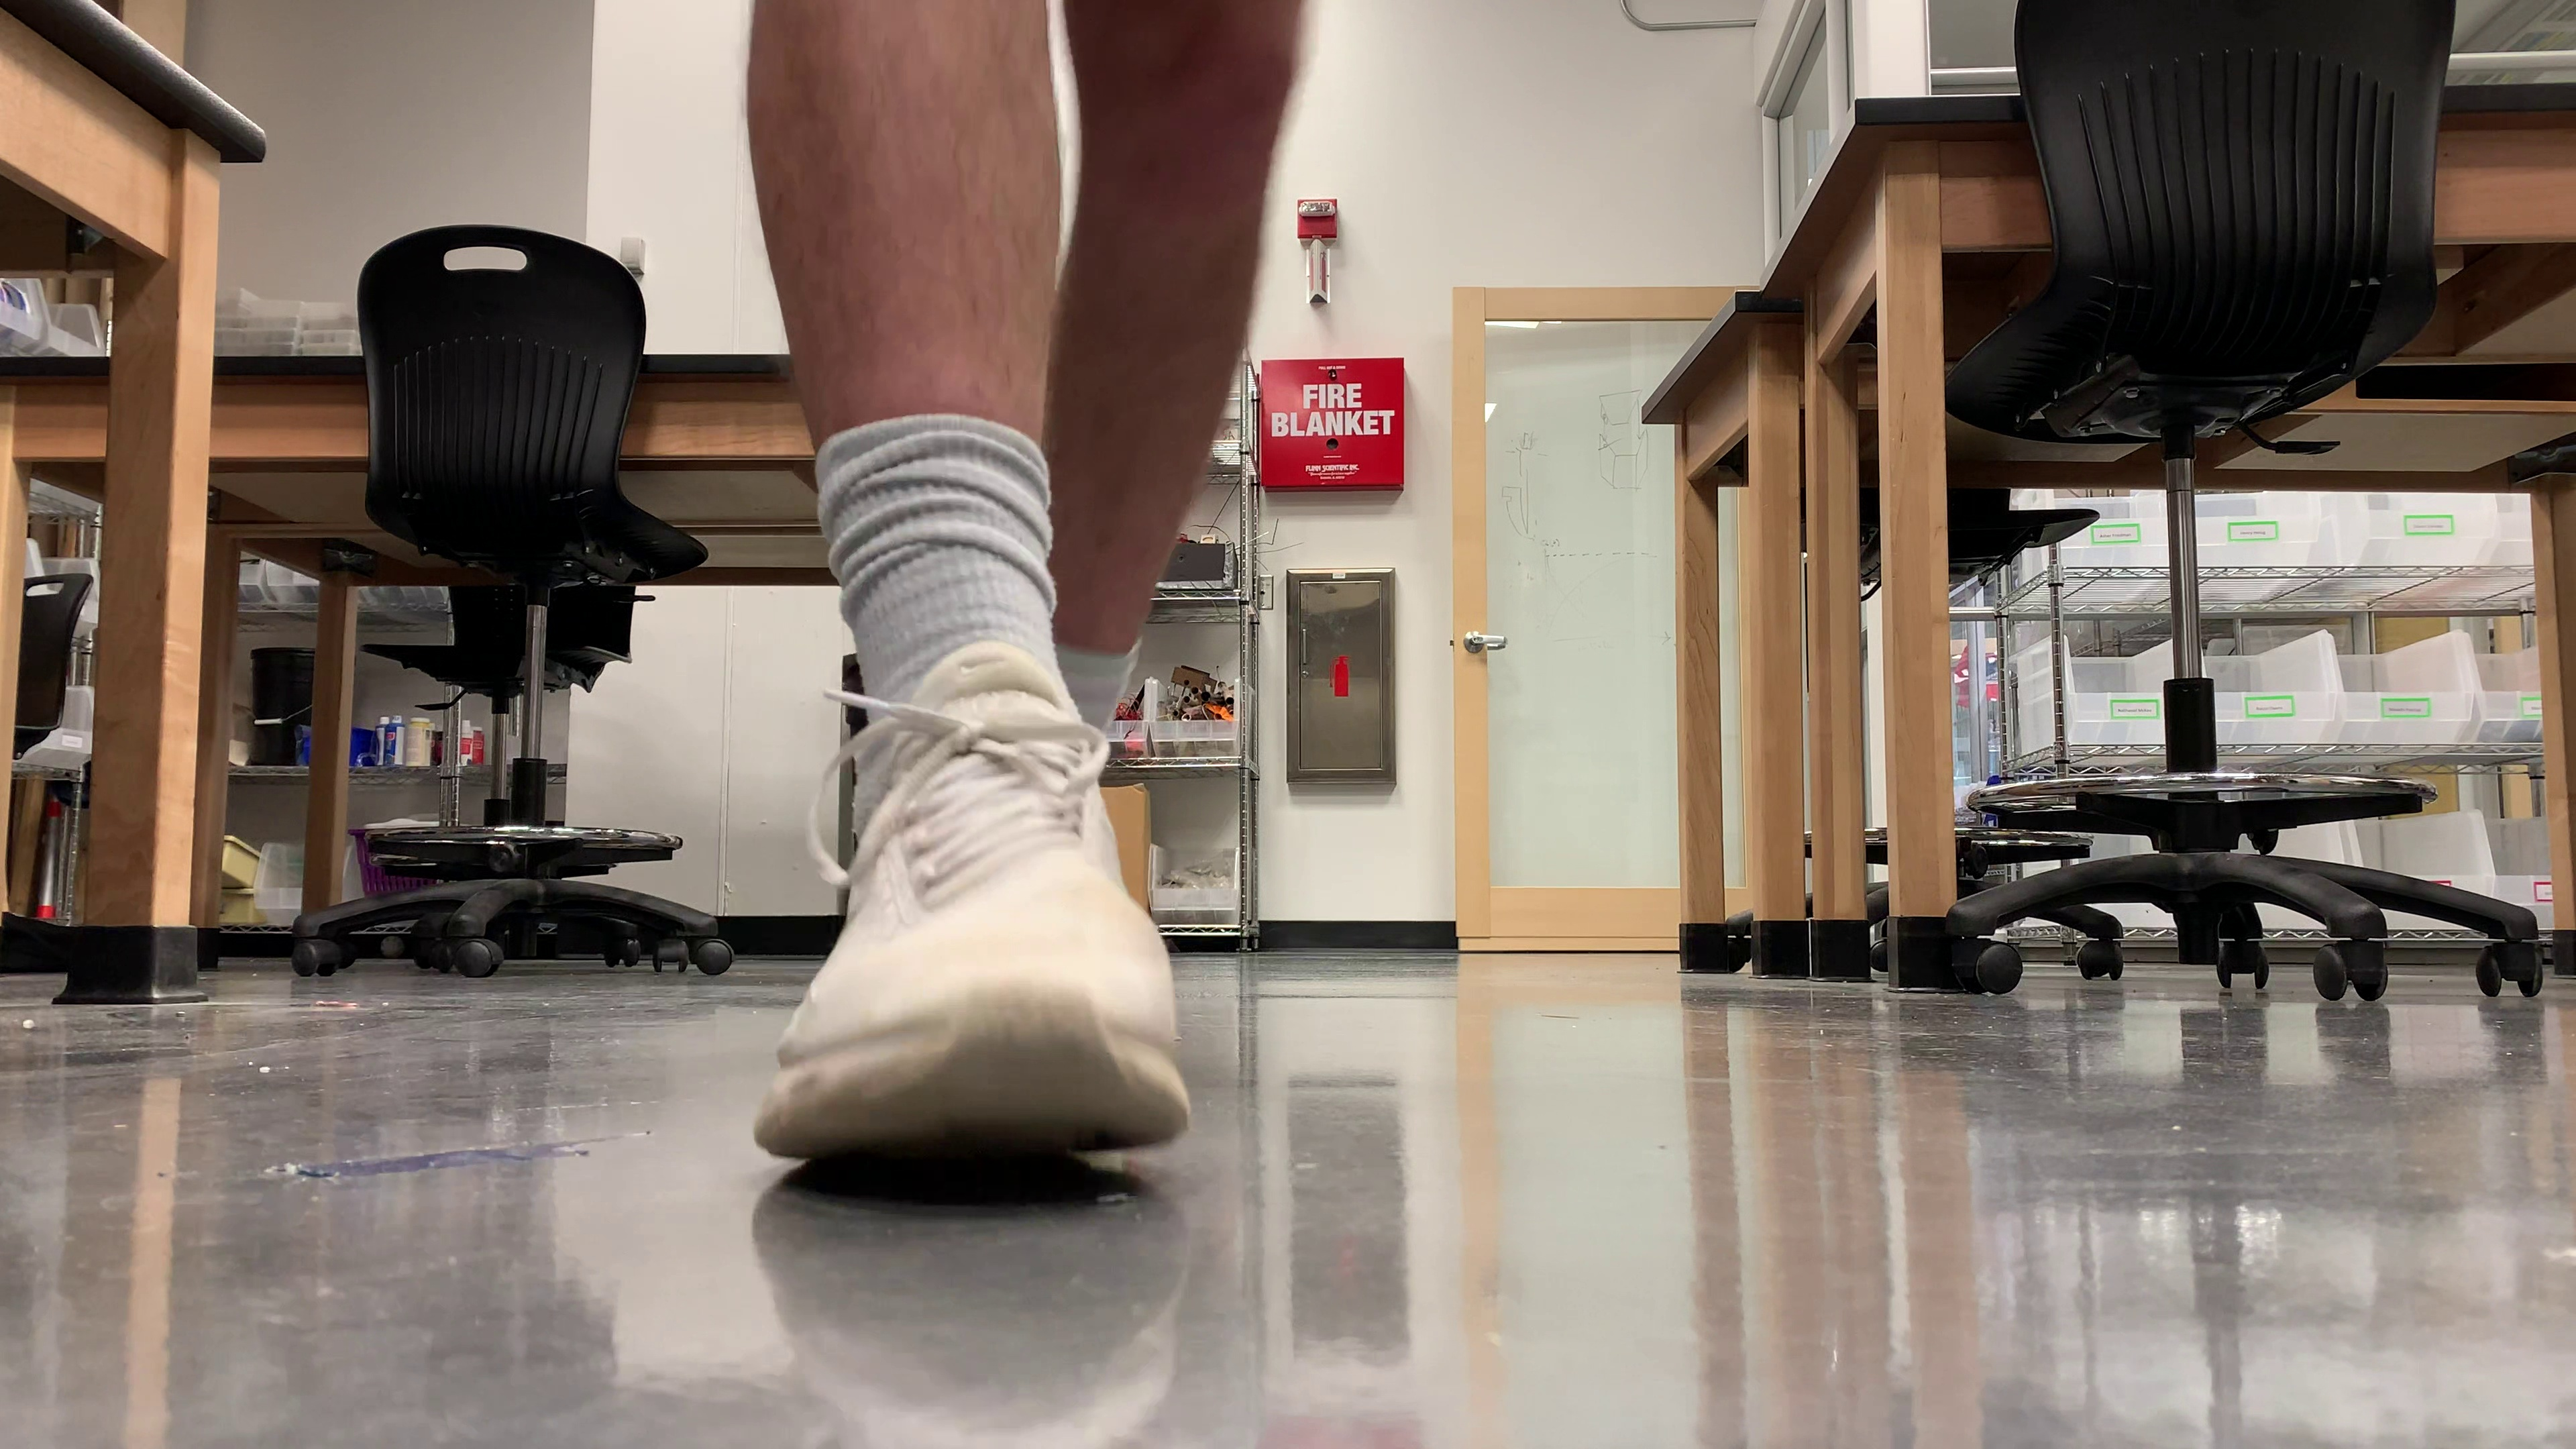shoe: (754, 640, 1189, 1150)
